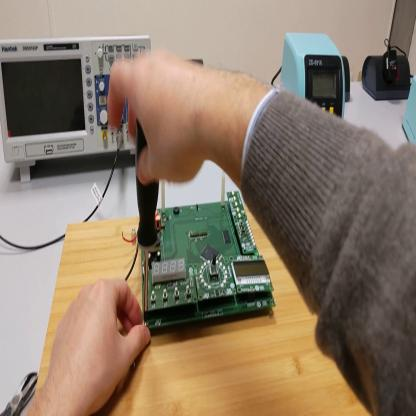hand: (109, 47, 208, 193), (47, 278, 150, 415)
low voltage board: (123, 175, 276, 336)
oscilloscope: (1, 38, 155, 185)
pliers: (1, 373, 38, 416)
screwdriver-: (136, 117, 161, 326)
socket: (362, 54, 412, 101), (343, 57, 351, 103)
welder base: (404, 76, 416, 152)
welder station: (283, 36, 347, 123)
working area: (38, 206, 372, 415)
